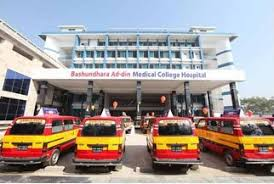ambulance: (196, 111, 274, 166), (1, 115, 75, 168), (146, 116, 205, 168), (71, 116, 126, 169), (139, 115, 153, 134)
